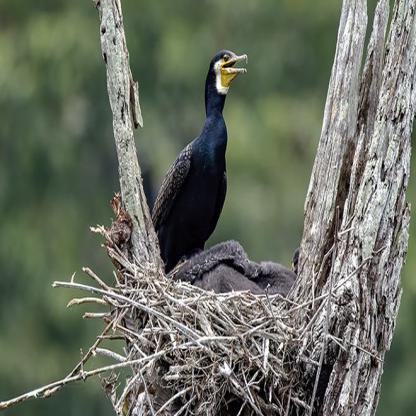Burung: (136, 41, 250, 299)
